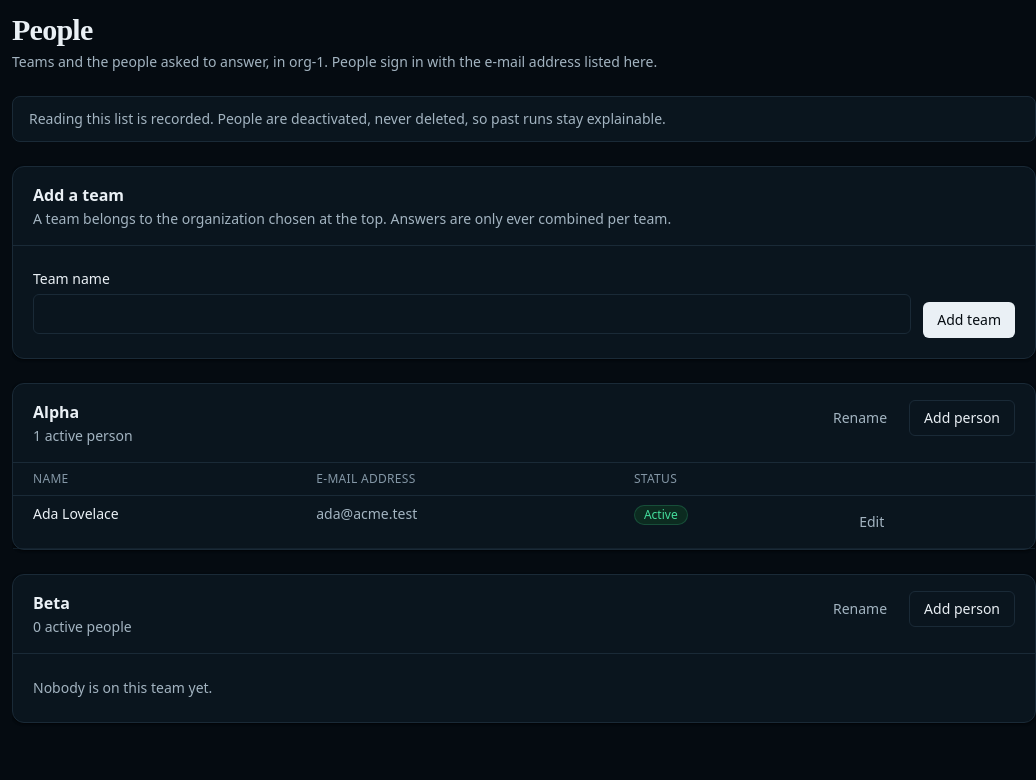
Scenario: PeoplePage › refuses an empty team name without sending anything
This screenshot has width=1036, height=780.
Expected: the element named "Team Alpha" is shown, [12, 383, 1035, 550]
Click the button "Add team": (969, 320) [923, 302, 1015, 338]
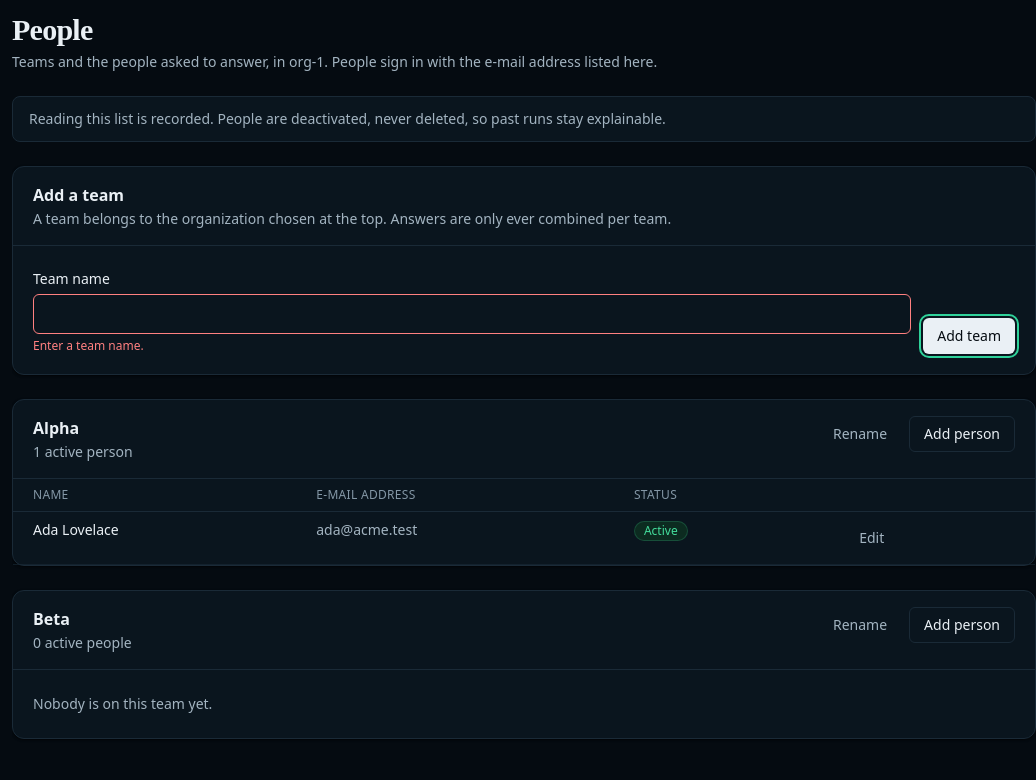
Expected: the text "Enter a team name." is shown, [33, 337, 144, 354]
